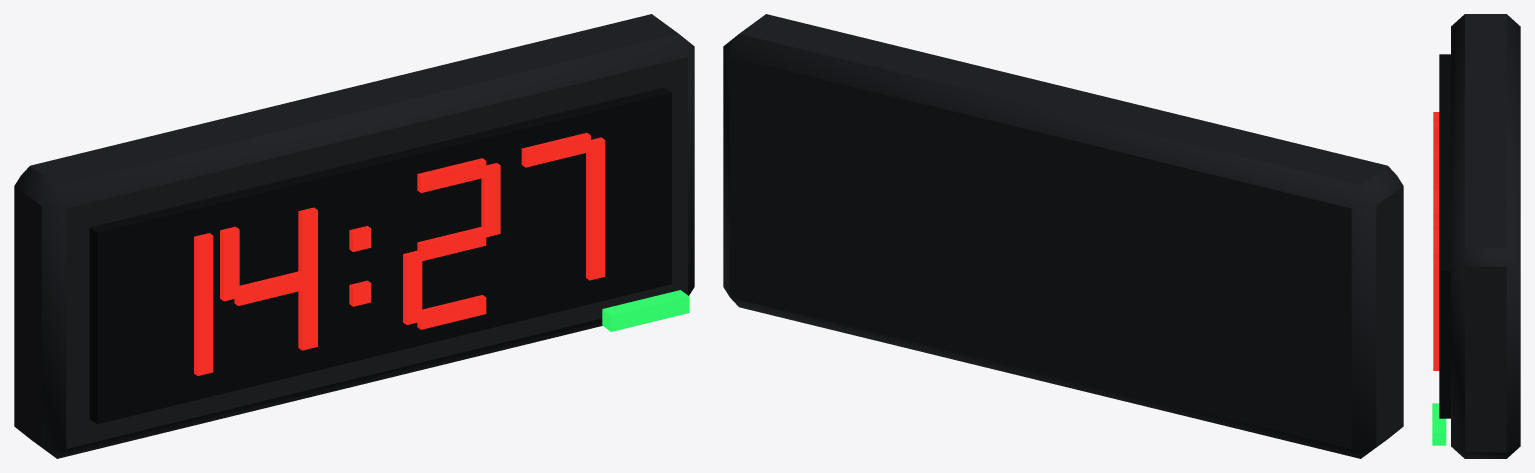
File: clock_digital_clock.glb
3 renders of one model, left to right at view 1: azimuth 30°, elevation 25°; view 2: azimuth 150°, elevation 25°; view 3: azimuth 270°, elevation 25°, orthographic. The views are drawn at different scales.
Parts seen in each view (by area): view 1: clock_digital_clock; view 2: clock_digital_clock; view 3: clock_digital_clock.
Part boxes in pixels (left/top/right/bottom): clock_digital_clock: left=14, top=14, right=694, bottom=458; clock_digital_clock: left=723, top=14, right=1403, bottom=458; clock_digital_clock: left=1432, top=14, right=1520, bottom=458.
Size of the model in its own units: 0.5 by 0.2 by 0.076.
